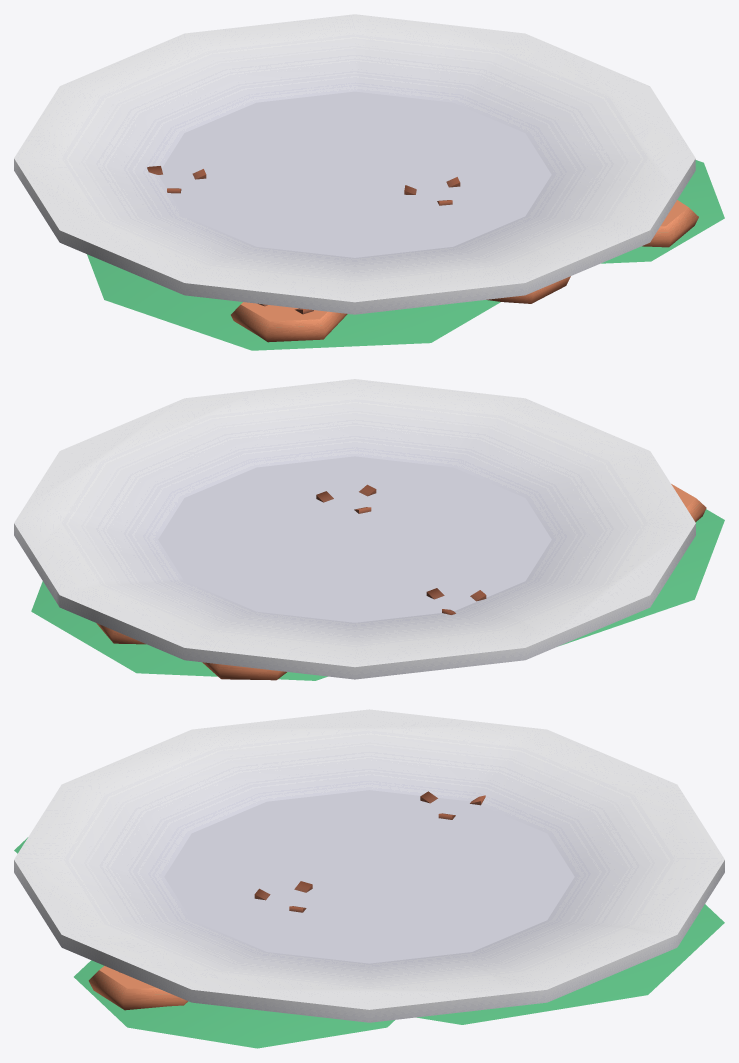
File: Mess_Decal.glb
3 renders of one model, top to bottom at view 1: azimuth 30°, elevation 25°; view 2: azimuth 150°, elevation 25°; view 3: azimuth 270°, elevation 25°, orthographic. The views are drawn at different scales.
Parts seen in each view (by area): view 1: Dish, Goo, Crumbs; view 2: Dish, Goo, Crumbs; view 3: Dish, Goo, Crumbs.
Boxes of the visible parts, x1,y1,x2,y2 form: Dish: [14, 14, 695, 314]; Goo: [87, 160, 724, 350]; Crumbs: [147, 166, 698, 342]; Dish: [14, 379, 695, 679]; Goo: [31, 509, 724, 680]; Crumbs: [96, 484, 706, 680]; Dish: [14, 709, 724, 1022]; Goo: [14, 837, 724, 1048]; Crumbs: [88, 791, 485, 1010].
Size of the model in its own units: 0.5 by 0.03 by 0.5.
Materials: 10 (10 with a texture image).
